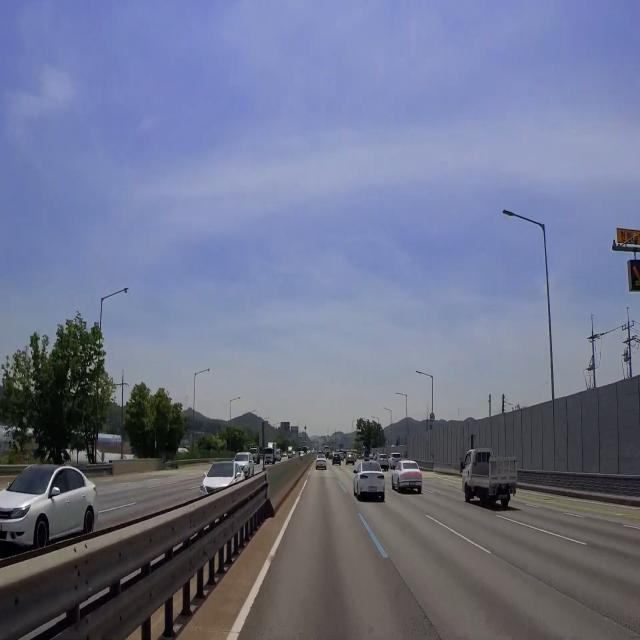car: (495, 491, 512, 502), (366, 483, 380, 496), (407, 478, 418, 491), (0, 523, 3, 539)
